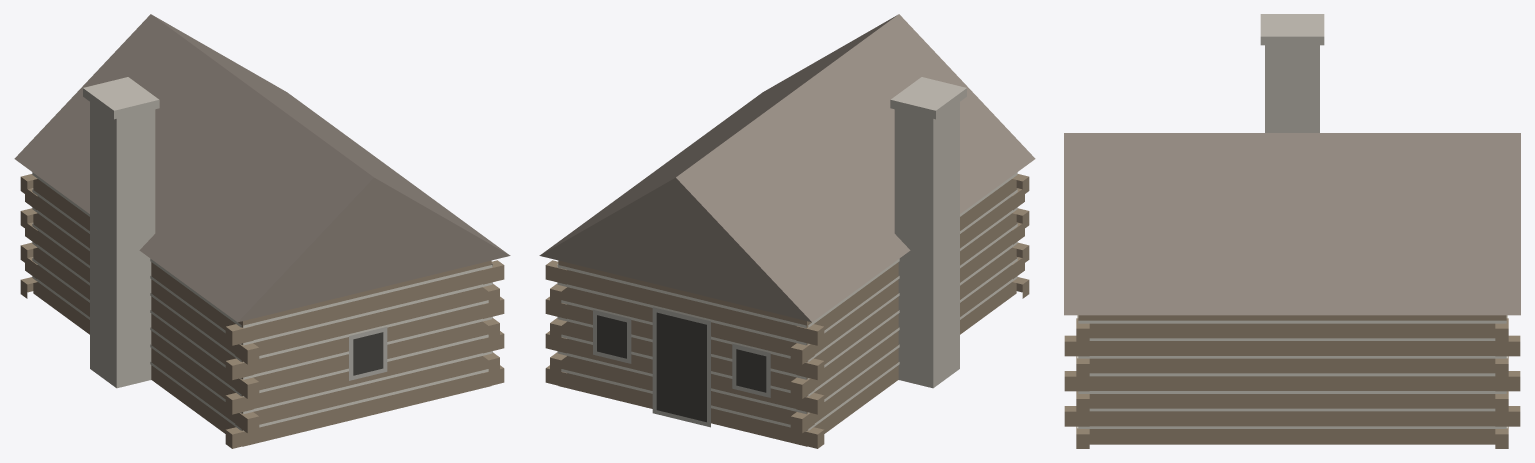
Rendered from recon_1835_south_d1_033__inferred_1835.glb.
3 renders of one model, left to right at view 1: azimuth 30°, elevation 25°; view 2: azimuth 150°, elevation 25°; view 3: azimuth 270°, elevation 25°, orthographic. The views are drawn at different scales.
Visible parts, largest first — view 1: recon_1835_south_d1_033__inferred_1835; view 2: recon_1835_south_d1_033__inferred_1835; view 3: recon_1835_south_d1_033__inferred_1835.
Boxes of the visible parts, <box> form: recon_1835_south_d1_033__inferred_1835: <box>14,14,510,448</box>; recon_1835_south_d1_033__inferred_1835: <box>539,14,1035,448</box>; recon_1835_south_d1_033__inferred_1835: <box>1064,14,1520,448</box>.
Size of the model in its own units: 6.22 by 5.61 by 8.01.
